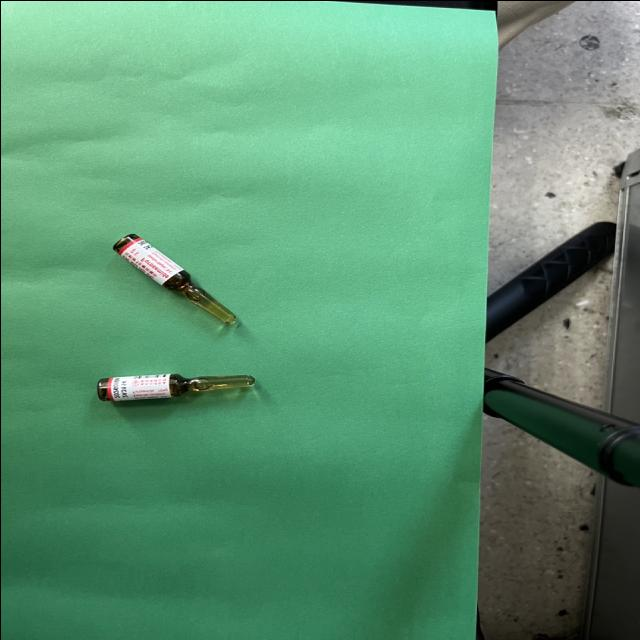Ampoules: (113, 233, 235, 322), (97, 373, 254, 400)
